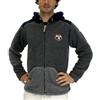abbigliamento_uomo: (9, 9, 91, 95)
